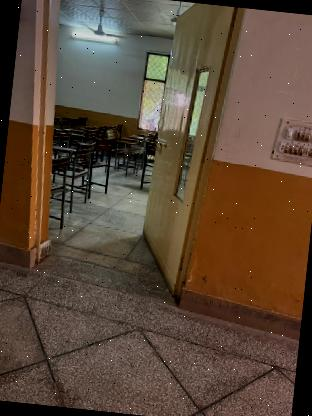chair: (62, 139, 98, 213), (85, 135, 118, 202)
door: (132, 0, 238, 310)
